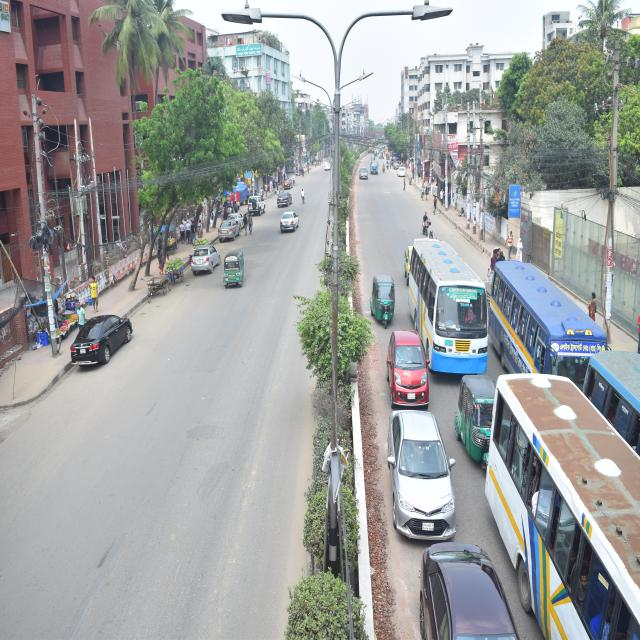bus: (485, 366, 640, 640), (485, 236, 613, 390), (408, 230, 499, 382), (578, 347, 640, 459)
car: (402, 535, 536, 640), (380, 408, 474, 540), (65, 304, 154, 380), (380, 328, 439, 408), (184, 240, 228, 283), (244, 185, 272, 222), (278, 206, 303, 240), (217, 218, 243, 245), (274, 190, 296, 210), (356, 166, 371, 183), (396, 164, 407, 180), (321, 161, 333, 174)
motorbike: (415, 208, 438, 240)
pickup-van: (369, 154, 383, 179)
